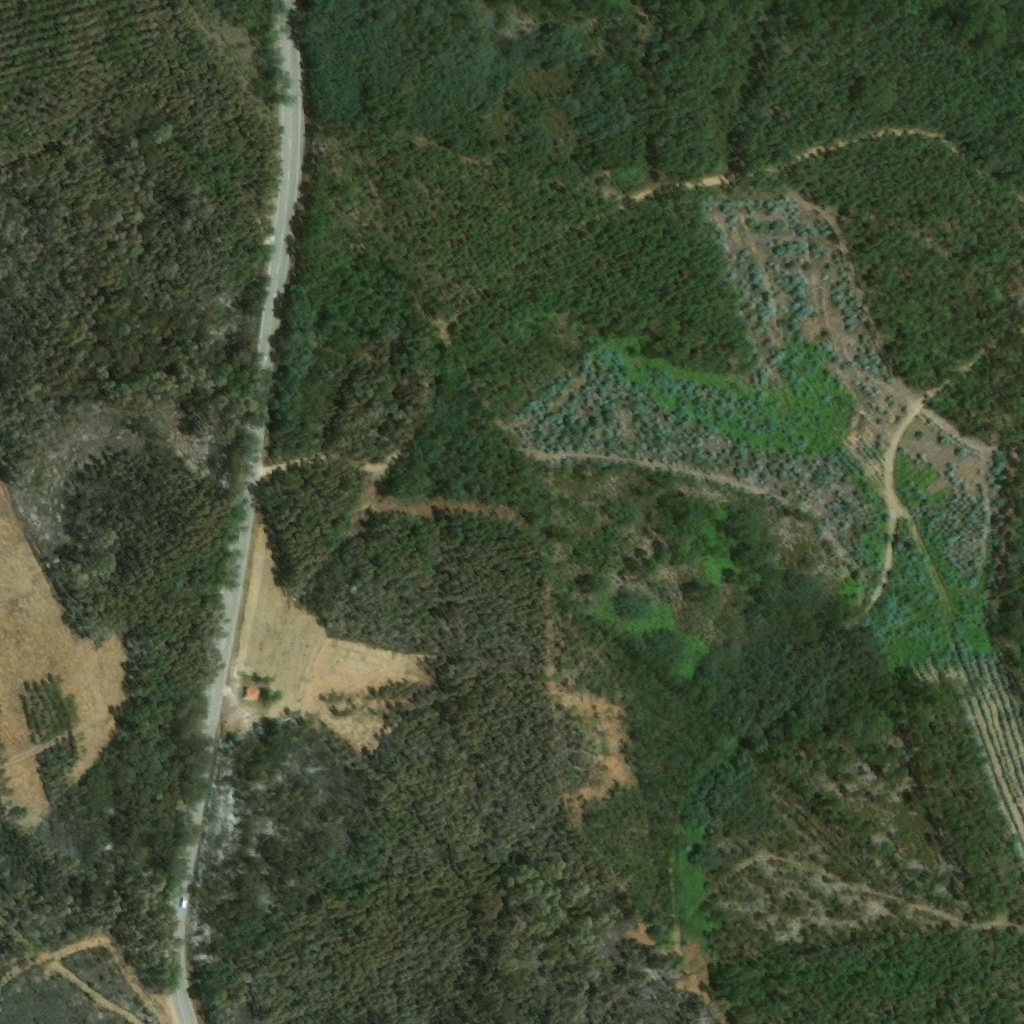0 no-damage: (244, 687, 268, 703)
